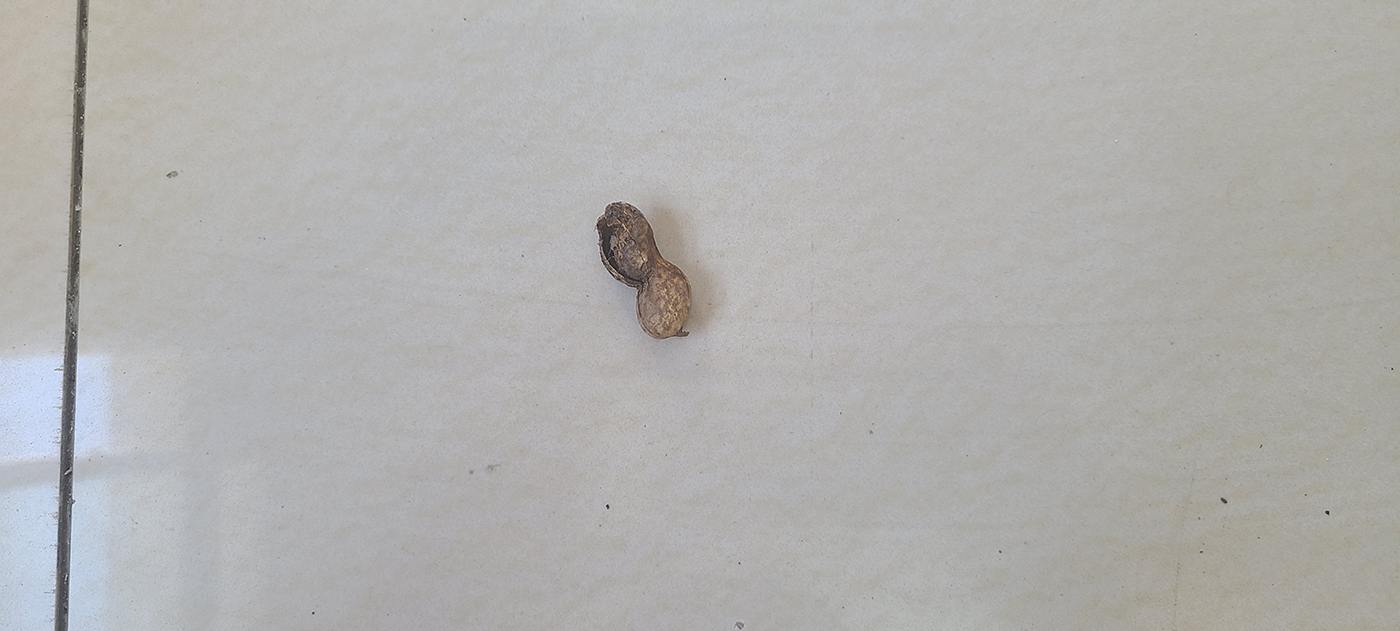l: (596, 201, 694, 341)
